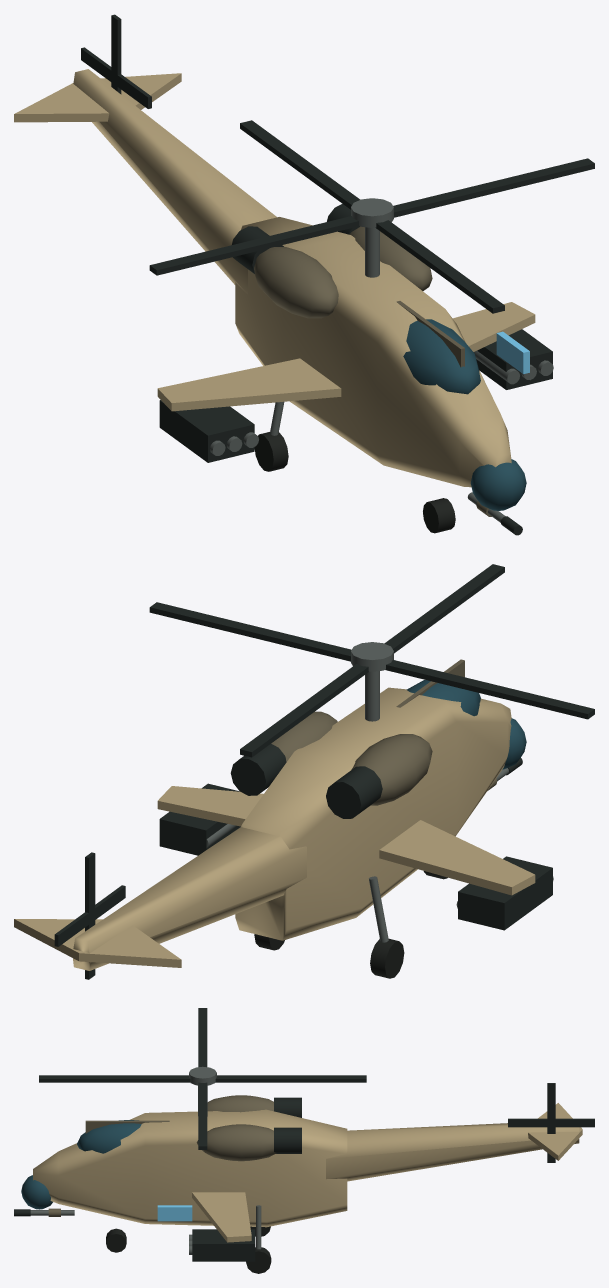
File: casHeli.glb
3 renders of one model, top to bottom at view 1: azimuth 30°, elevation 25°; view 2: azimuth 150°, elevation 25°; view 3: azimuth 270°, elevation 25°, orthographic. The views are drawn at different scales.
Visible parts, largest first — view 1: armor, dark (×3), trim, glass, steel (×2), rubber, marking; view 2: armor, dark (×3), trim, steel (×3), glass, rubber; view 3: armor, dark (×3), trim, glass, rubber, marking, steel.
Boxes of the visible parts, left/top/right/bottom form: armor: left=14, top=69, right=535, bottom=487; dark (×3): left=81, top=14, right=594, bottom=462; trim: left=254, top=226, right=464, bottom=367; glass: left=403, top=319, right=526, bottom=510; steel (×2): left=210, top=198, right=553, bottom=455; rubber: left=254, top=432, right=455, bottom=533; marking: left=496, top=331, right=529, bottom=374; armor: left=14, top=687, right=535, bottom=970; dark (×3): left=54, top=564, right=594, bottom=979; trim: left=271, top=659, right=464, bottom=805; steel (×3): left=206, top=642, right=553, bottom=942; glass: left=406, top=680, right=526, bottom=769; rubber: left=254, top=871, right=447, bottom=978; armor: left=33, top=1103, right=582, bottom=1242; dark (×3): left=39, top=1008, right=594, bottom=1261; trim: left=85, top=1095, right=276, bottom=1161; glass: left=21, top=1120, right=141, bottom=1209; rubber: left=106, top=1226, right=271, bottom=1273; marking: left=157, top=1205, right=192, bottom=1221; steel: left=189, top=1066, right=216, bottom=1085.
Size of the model in its own units: 4.7 by 2.86 by 8.34.
